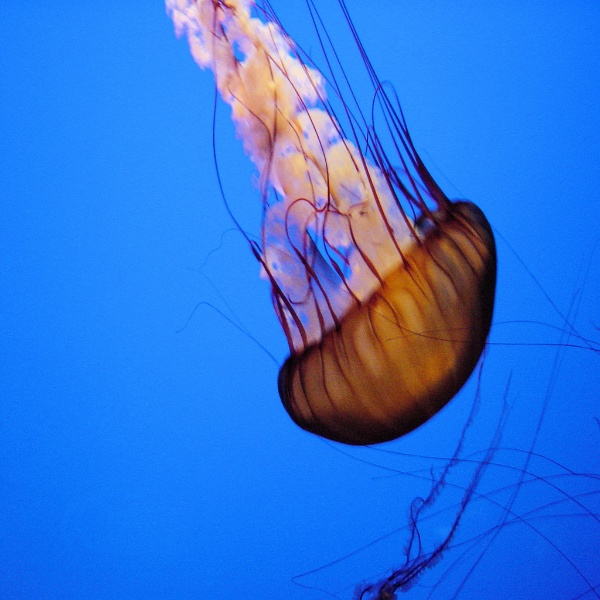Jellyfish: (161, 0, 497, 447)
